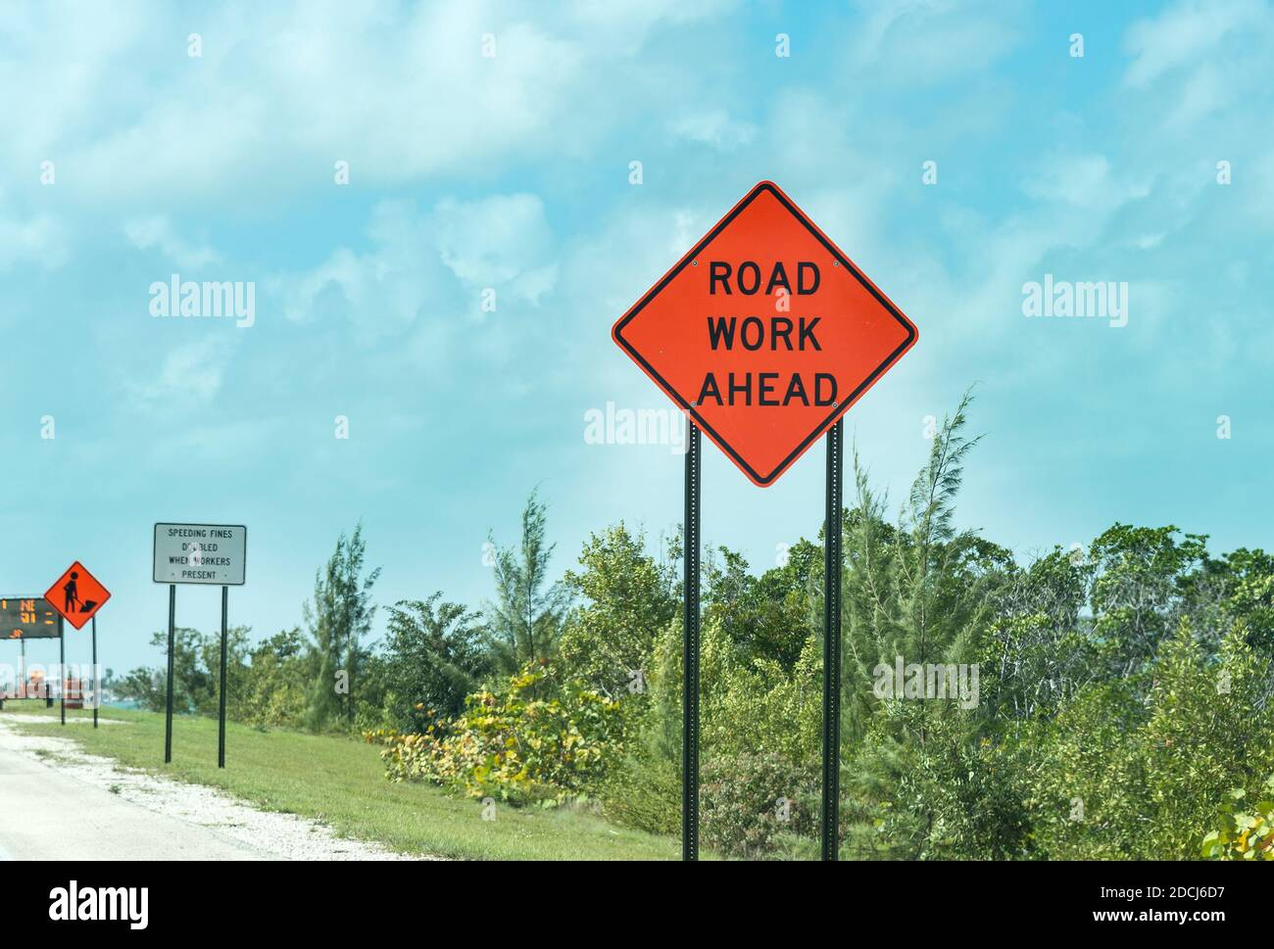Road_workahead: (615, 178, 935, 480)
